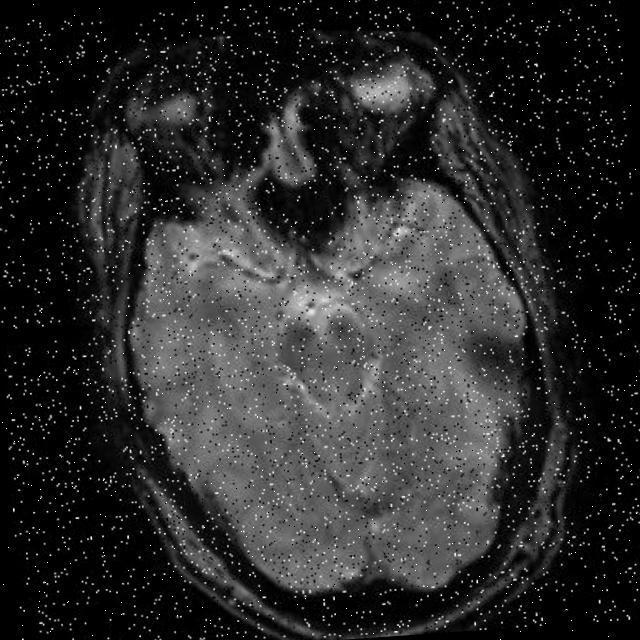LMCI: (231, 157, 361, 256), (438, 291, 546, 405)
